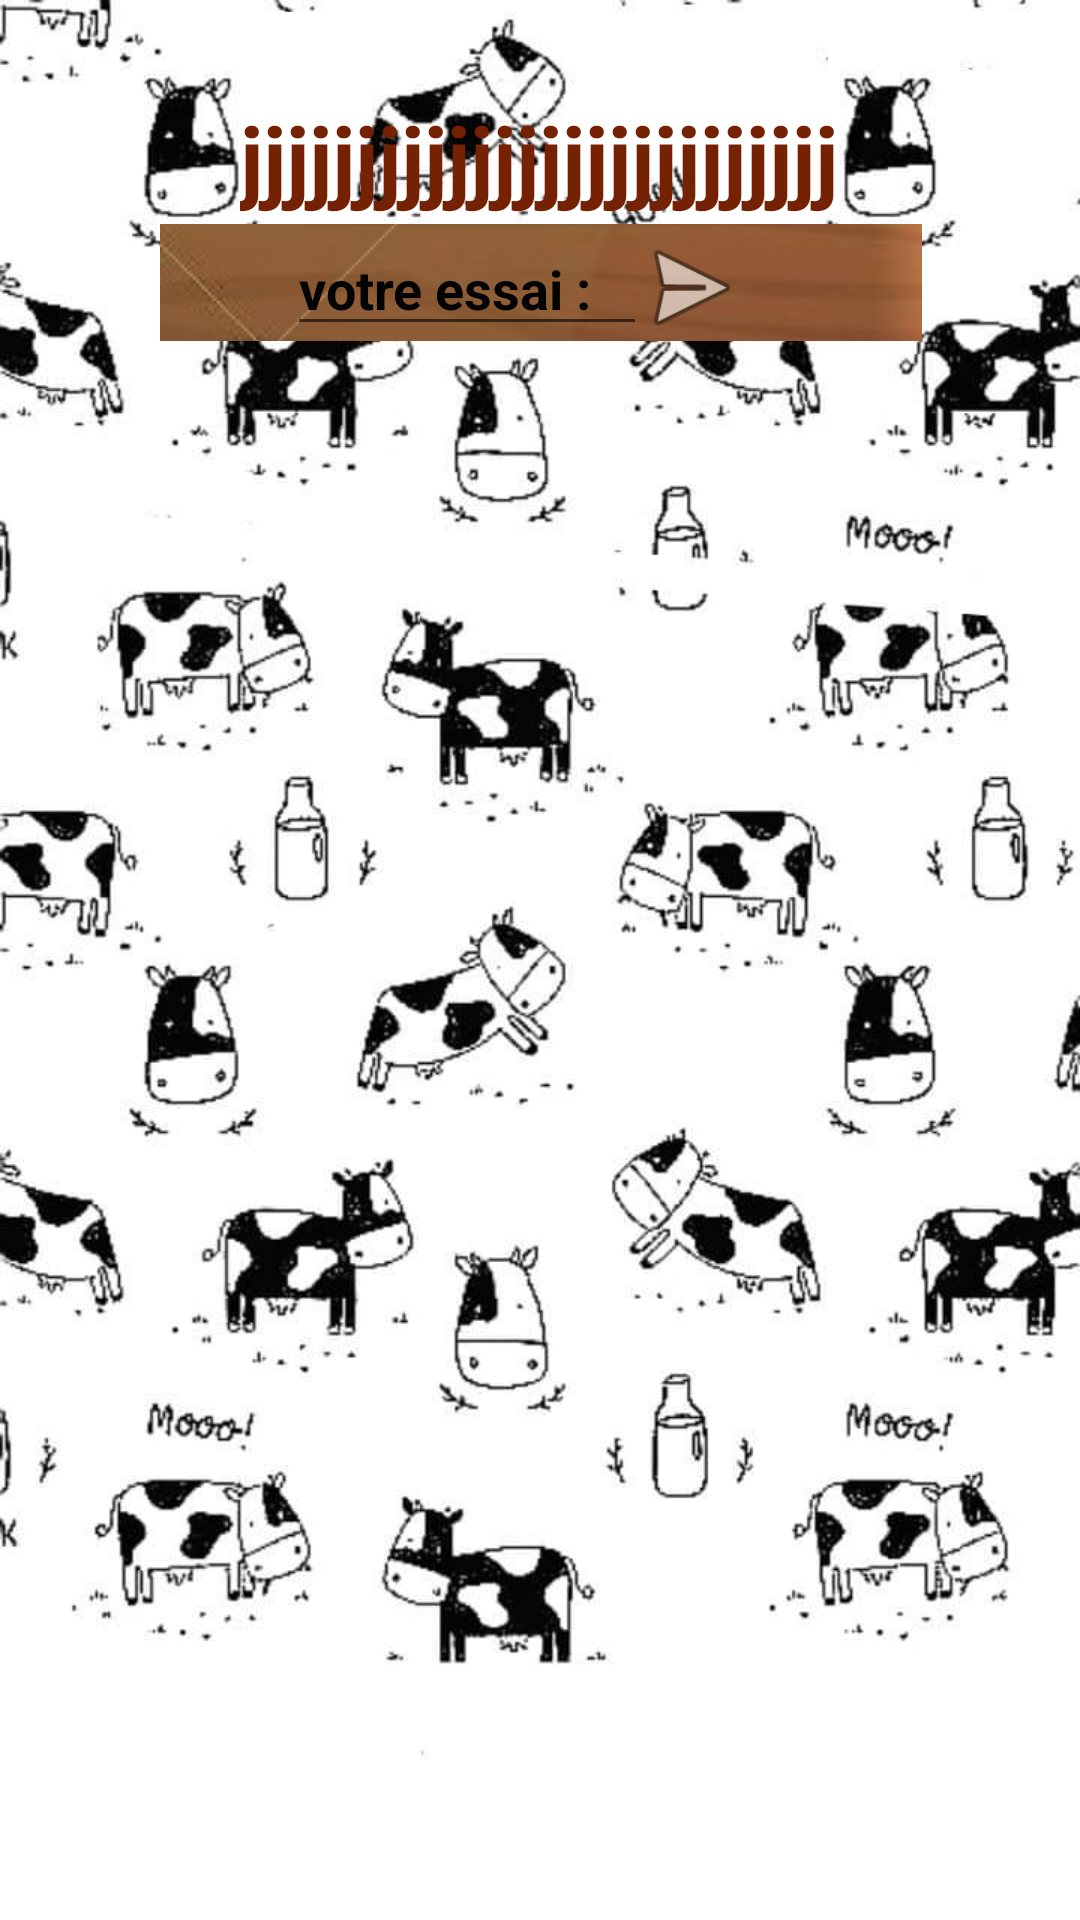

Point at icon controls on the screen. Image size 1080*1920, points as (x=x, y=y).
send: (x=691, y=287)
